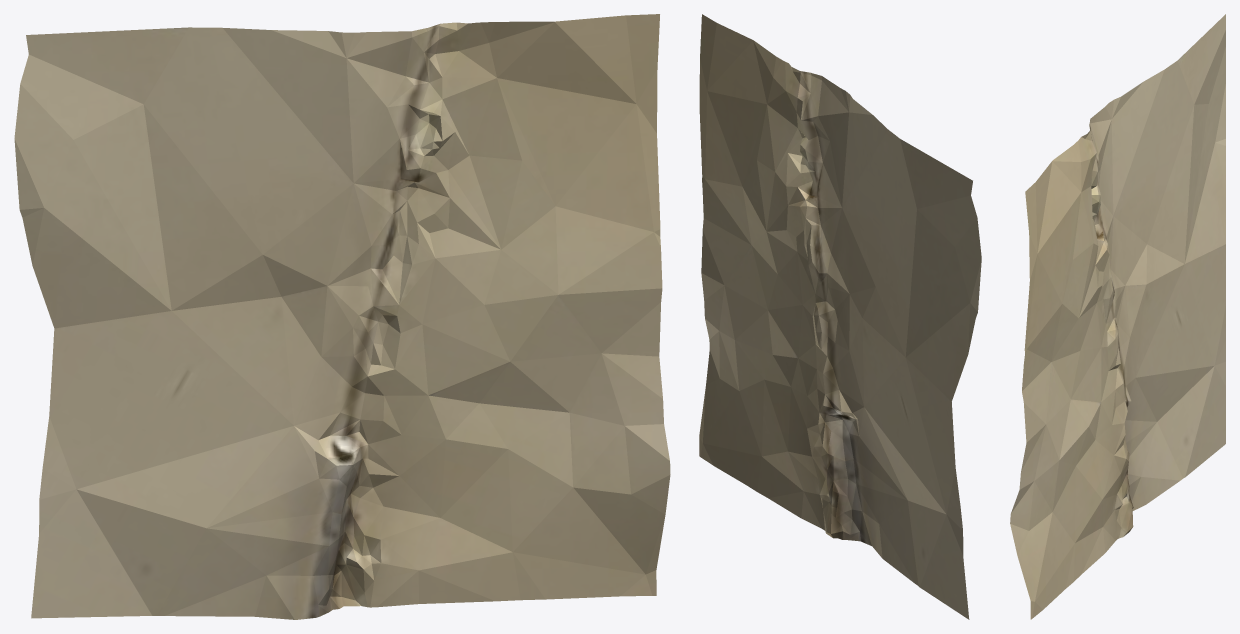
3 renders of one model, left to right at view 1: azimuth 30°, elevation 25°; view 2: azimuth 150°, elevation 25°; view 3: azimuth 270°, elevation 25°, orthographic. The views are drawn at different scales.
Bounding box in the file's own units: 1.53 × 1.67 × 0.765.
2 materials, 2 textured.
